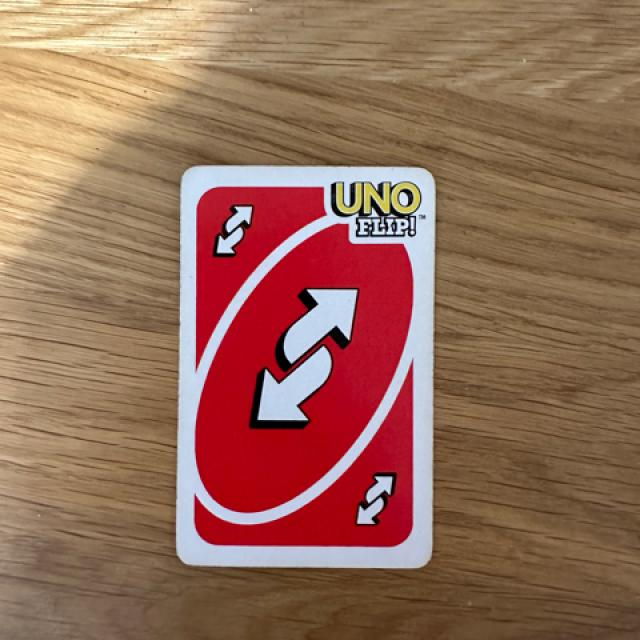lredrevers-20: (189, 178, 276, 274)
